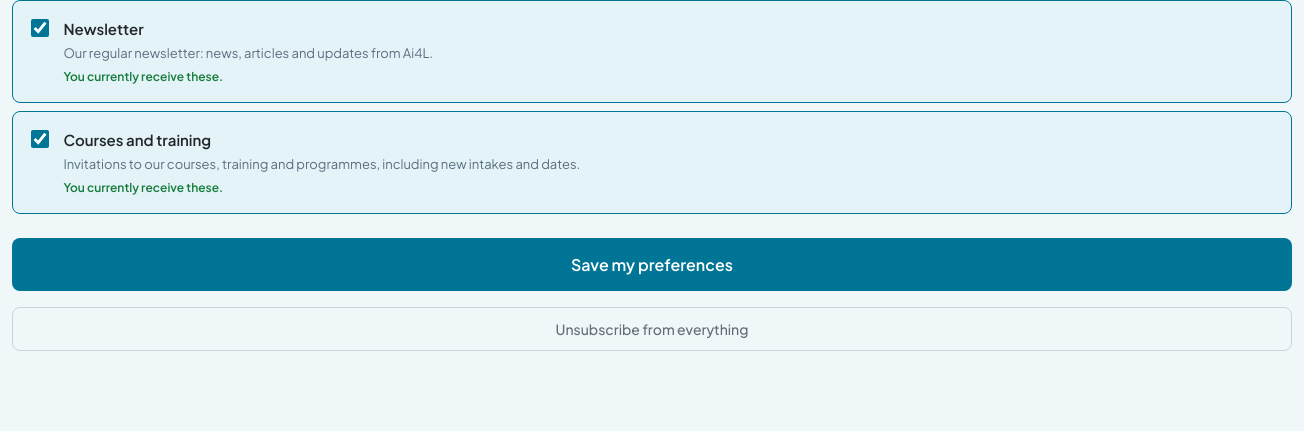
Test: PreferencesForm › says when the mailing service has not caught up yet
This screenshot has width=1304, height=431.
Click the button with test id "unsubscribe-all": (652, 329) [12,307,1292,351]
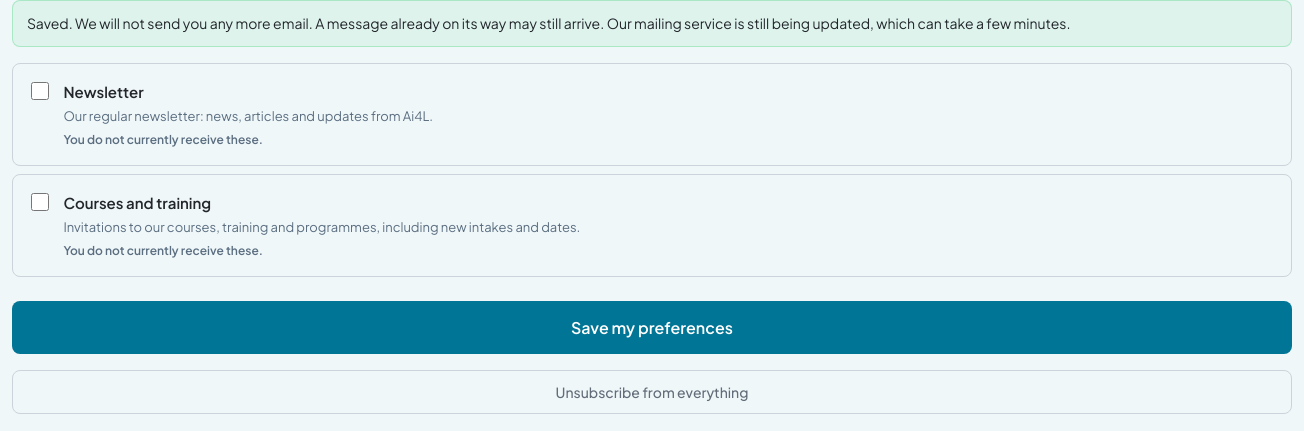
Result: the text with test id "preferences-provider-pending" is shown at [604,14,1070,32]
